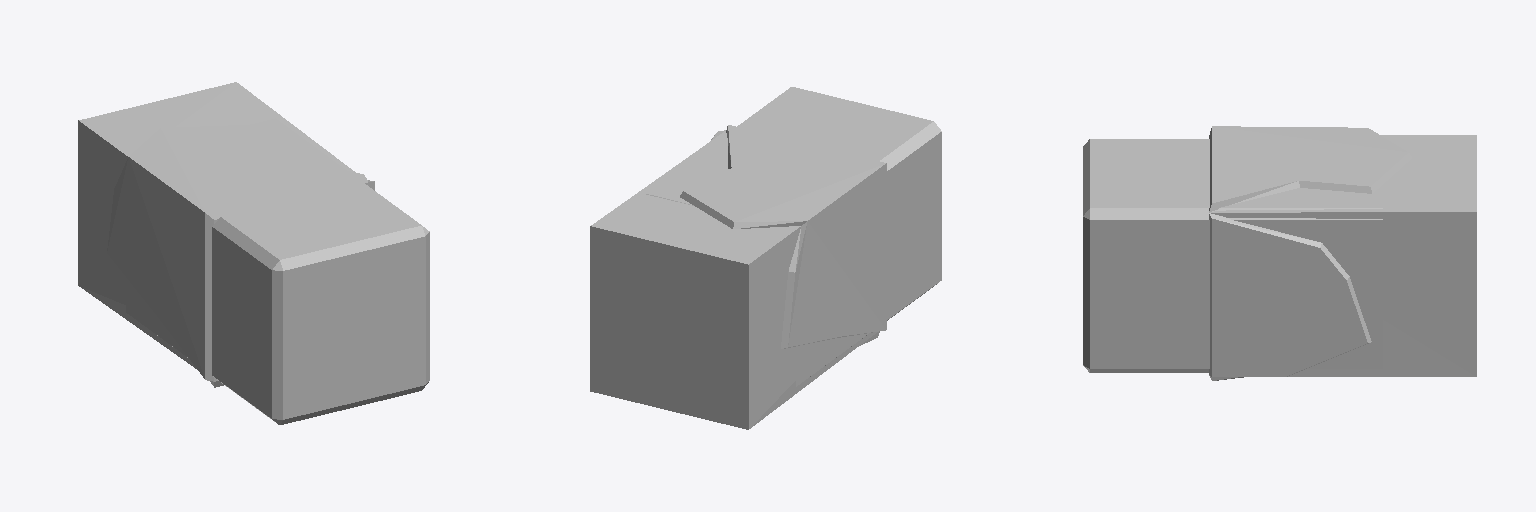
The model's file is butter1.obj.
3 views of the same model, side by side, from view 1: azimuth 30°, elevation 25°; view 2: azimuth 150°, elevation 25°; view 3: azimuth 270°, elevation 25° (orthographic).
Visible parts, largest first — view 1: Butter; view 2: Butter; view 3: Butter.
Part boxes in pixels (x1,y1,x2,y2): Butter: (78,82,429,424); Butter: (590,87,941,429); Butter: (1083,126,1476,380).
Size of the model in its own units: 6.12 by 6.12 by 12.35.